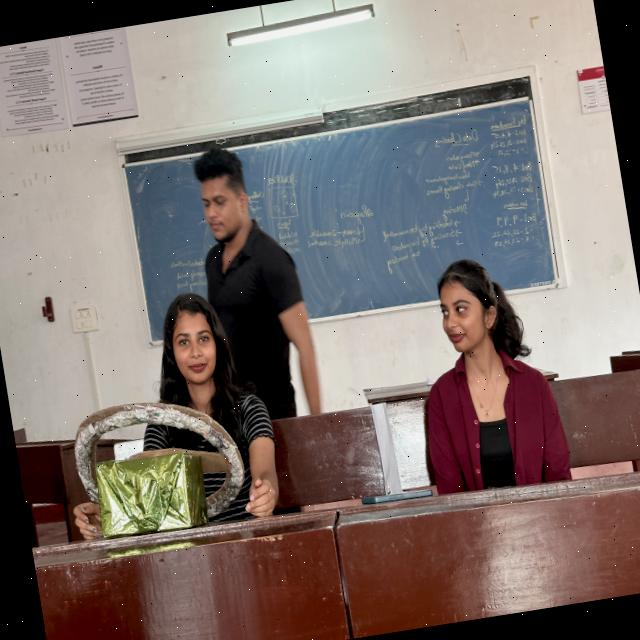Helmet: (384, 322, 592, 526), (85, 366, 304, 538)
